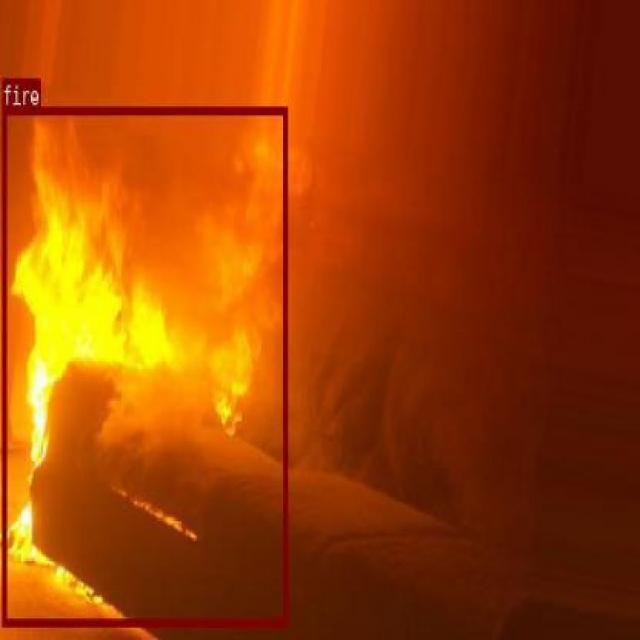Fire: (2, 105, 286, 624)
